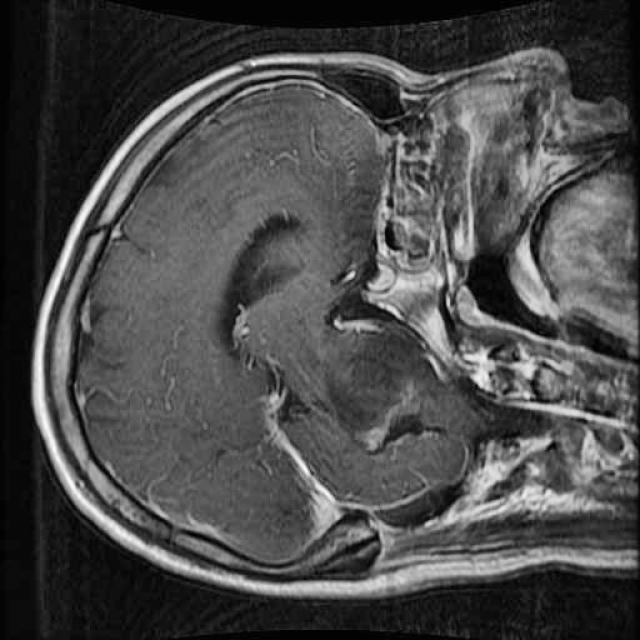Tumor: (315, 309, 429, 459)
